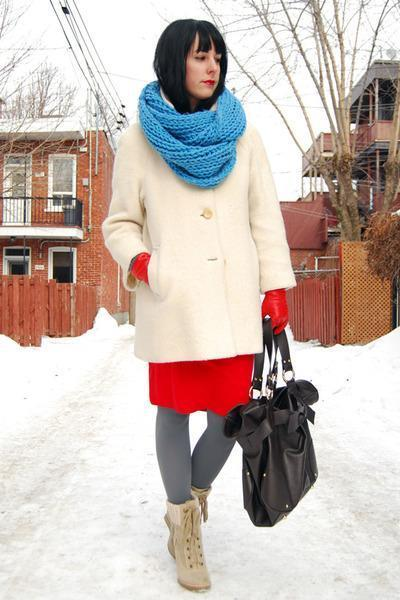bag: (235, 324, 318, 526)
jacket: (101, 116, 296, 371)
shoe: (164, 484, 211, 593)
skirt: (149, 354, 260, 415)
